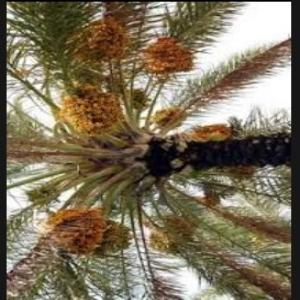palm tree: (6, 1, 291, 299)
